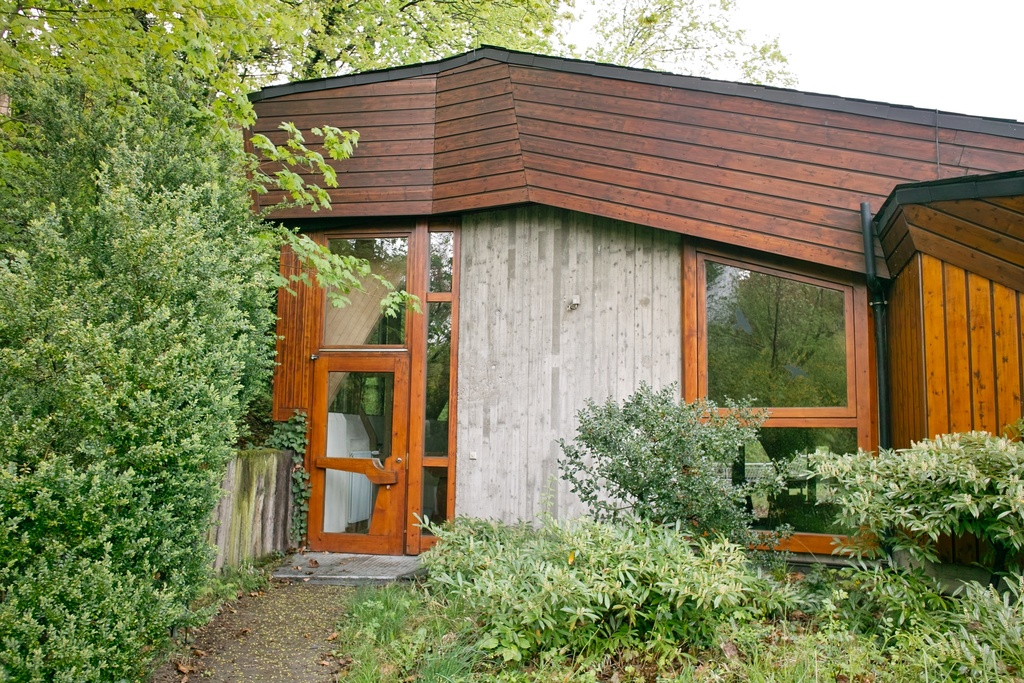Tree: (0, 0, 800, 683)
